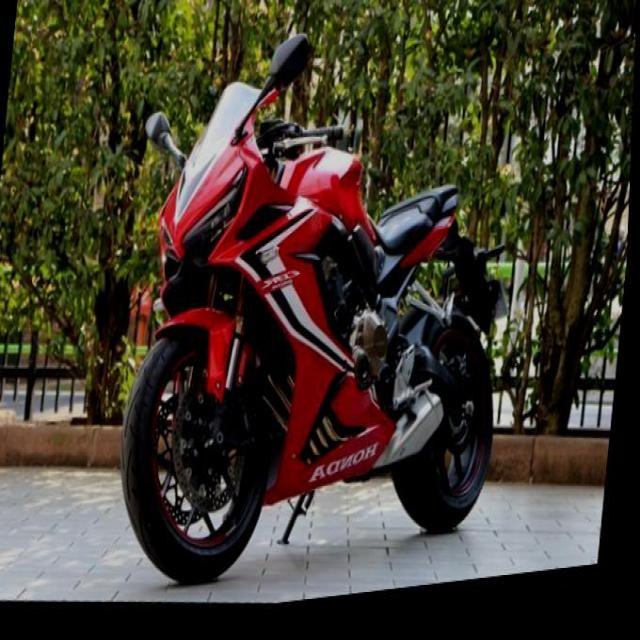CBR650R: (104, 1, 534, 626)
